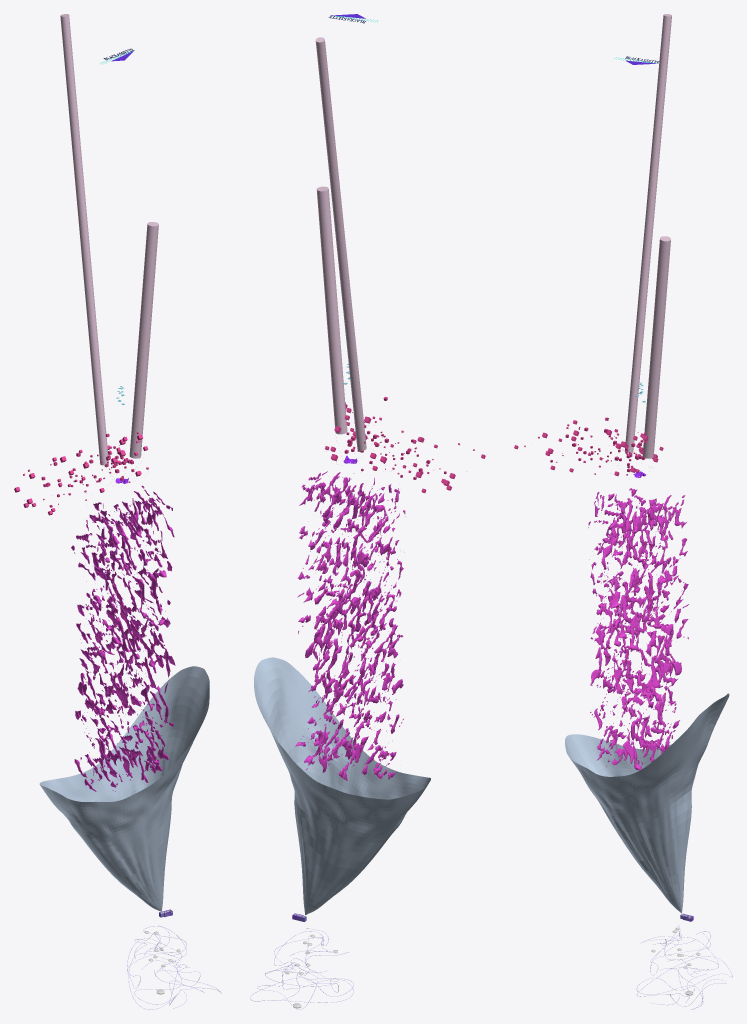
The model's file is blackassette.08d282d3.glb.
3 renders of one model, left to right at view 1: azimuth 30°, elevation 25°; view 2: azimuth 150°, elevation 25°; view 3: azimuth 330°, elevation 25°, orthographic. The views are drawn at different scales.
Visible parts, largest first — view 1: ghost-funnel, ghost-bloodcells, ghost-column, ghost-subes.001, ghost-path; view 2: ghost-funnel, ghost-bloodcells, ghost-column, ghost-subes.001, ghost-path; view 3: ghost-funnel, ghost-bloodcells, ghost-column, ghost-subes.001, ghost-path.
Part boxes in pixels (<box>): ghost-funnel: <box>39,666,209,911</box>; ghost-bloodcells: <box>71,485,175,791</box>; ghost-column: <box>60,14,158,465</box>; ghost-subes.001: <box>14,432,148,515</box>; ghost-path: <box>127,925,221,1009</box>; ghost-funnel: <box>254,657,430,915</box>; ghost-bloodcells: <box>295,471,405,780</box>; ghost-column: <box>315,37,366,450</box>; ghost-subes.001: <box>325,396,485,492</box>; ghost-path: <box>250,928,353,1009</box>; ghost-funnel: <box>565,693,729,913</box>; ghost-bloodcells: <box>588,488,688,770</box>; ghost-column: <box>624,14,671,458</box>; ghost-subes.001: <box>514,417,663,475</box>; ghost-path: <box>636,924,732,1009</box>.
Size of the model in its own units: 901 by 4355 by 558.
